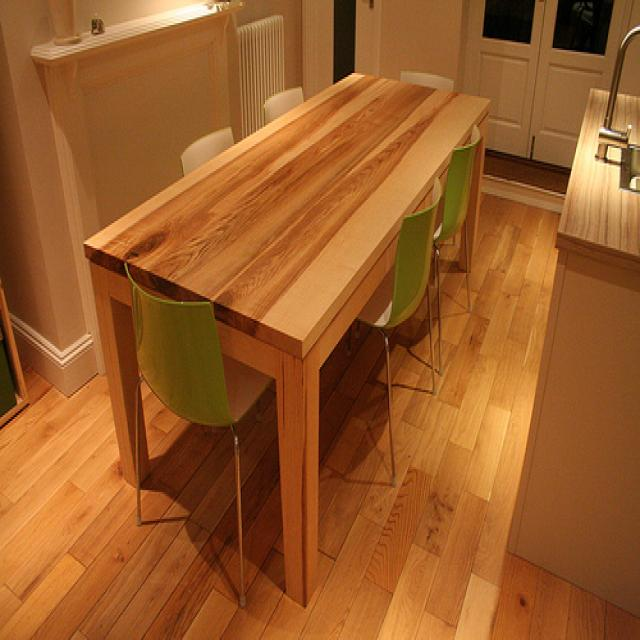table: (80, 65, 487, 608)
